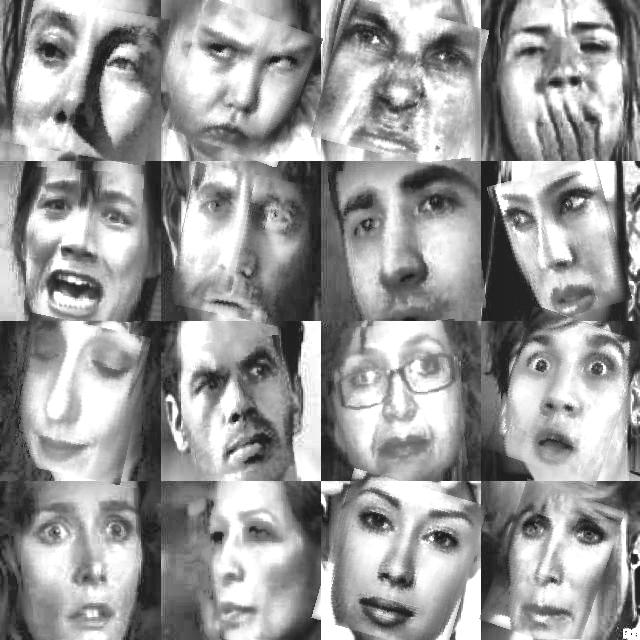angry: (319, 2, 481, 164), (172, 5, 314, 159)
fear: (495, 313, 634, 479), (21, 488, 141, 639), (26, 168, 142, 321), (186, 337, 292, 475)
happy: (6, 318, 144, 480)
neutral: (320, 476, 478, 640), (496, 164, 624, 322), (333, 322, 465, 474), (193, 499, 290, 640)
sad: (7, 0, 164, 159), (331, 160, 483, 318), (173, 167, 310, 323), (489, 484, 613, 640), (501, 8, 625, 150)
